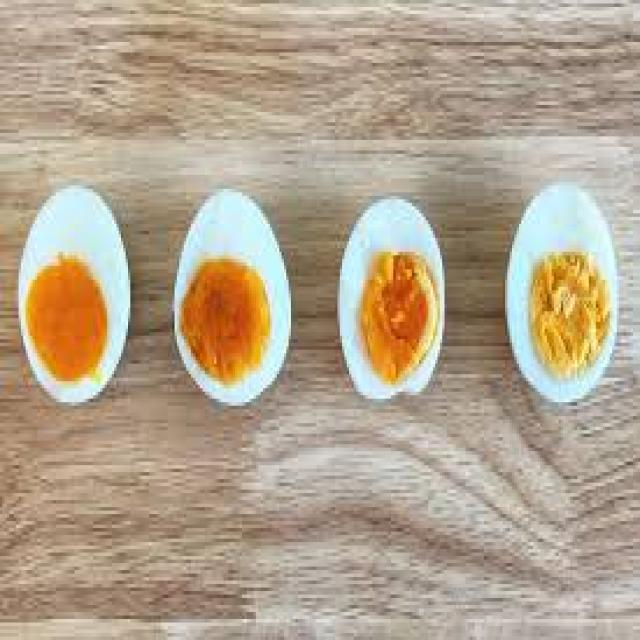boiled egg: (495, 178, 631, 415)
